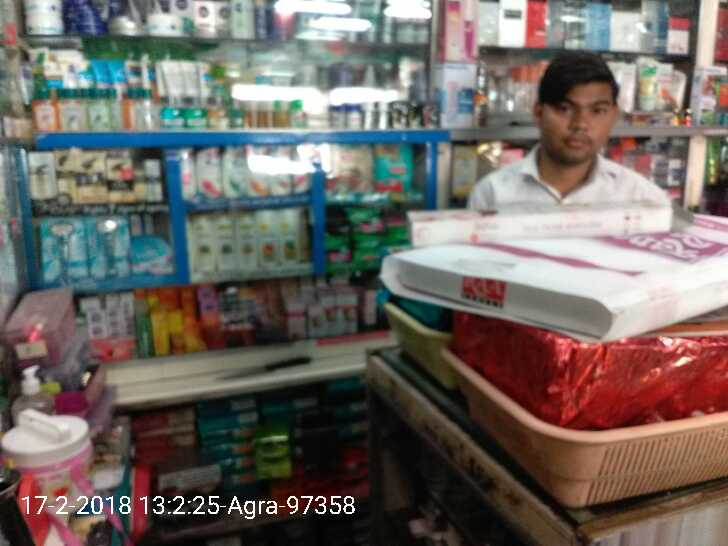venus: (88, 214, 133, 274), (51, 214, 88, 279), (132, 232, 170, 274)
